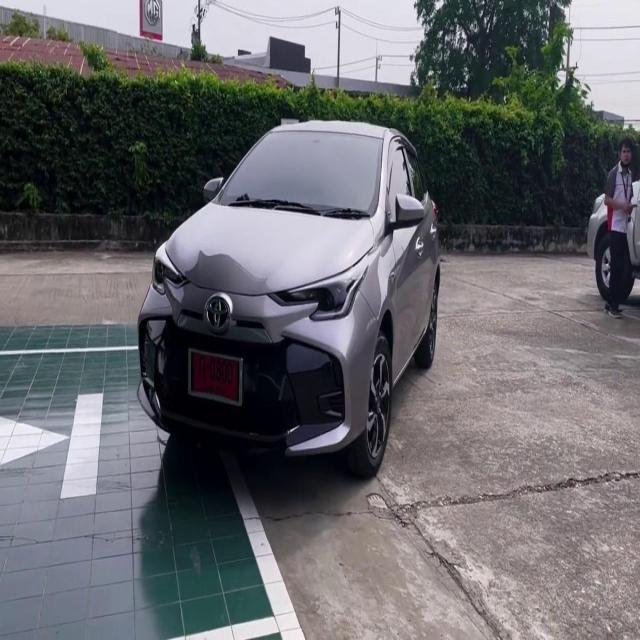Hatchback: (139, 120, 440, 477)
